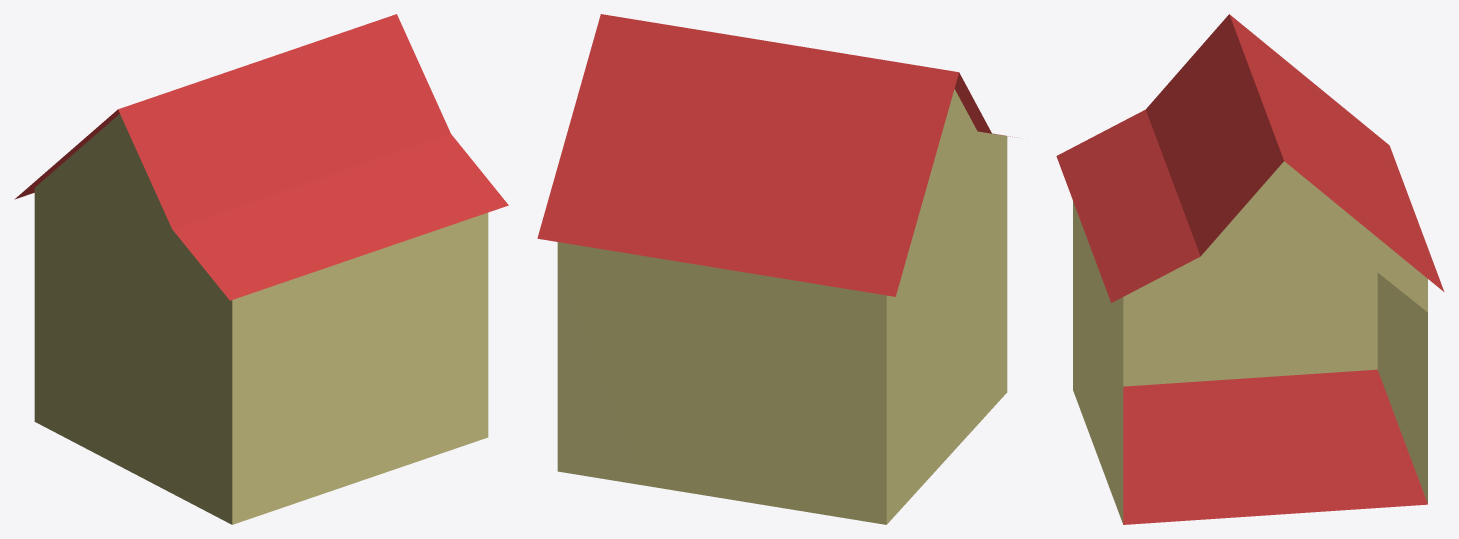
3 renders of one model, left to right at view 1: azimuth 30°, elevation 25°; view 2: azimuth 150°, elevation 25°; view 3: azimuth 270°, elevation 25°, orthographic. The views are drawn at different scales.
Bounding box in the file's own units: 13.84 × 13.41 × 13.7.
